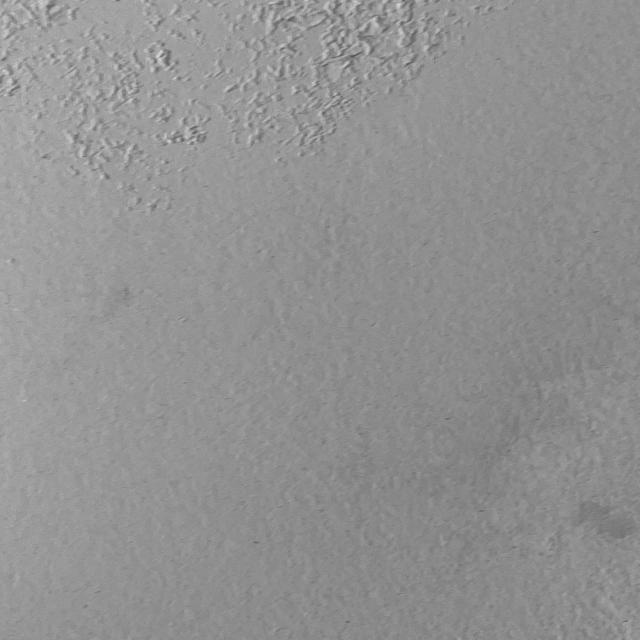rough and patchy surface: (0, 0, 525, 215)
